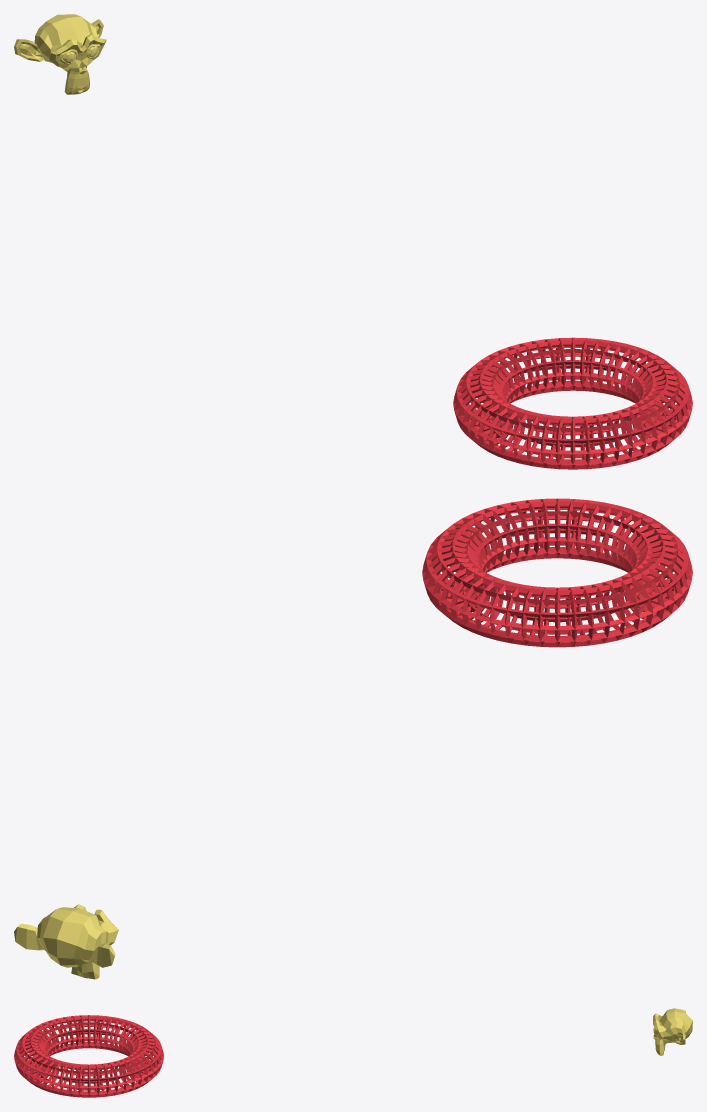
File: map.gltf
The picture shows the model from 3 angles, top to bottom: view 1: azimuth 30°, elevation 25°; view 2: azimuth 150°, elevation 25°; view 3: azimuth 270°, elevation 25°; orthographic projection. The views are drawn at different scales.
Parts seen in each view (by area): view 1: Torus, Suzanne; view 2: Torus, Suzanne; view 3: Torus, Suzanne.
Boxes of the visible parts, x1,y1,x2,y2 form: Torus: [453, 337, 692, 469]; Suzanne: [14, 14, 106, 94]; Torus: [422, 498, 692, 647]; Suzanne: [14, 904, 118, 979]; Torus: [14, 1015, 163, 1097]; Suzanne: [653, 1008, 692, 1055].
Size of what is drawn, in the model's own units: 6.39 by 2.25 by 28.88.
